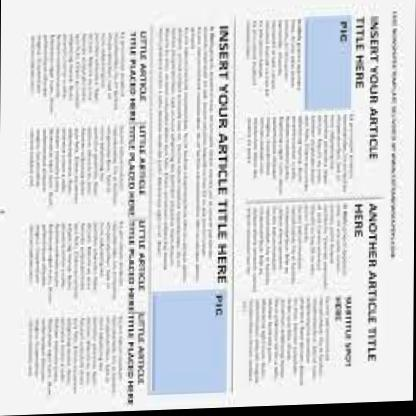Paper: (0, 14, 402, 416)
